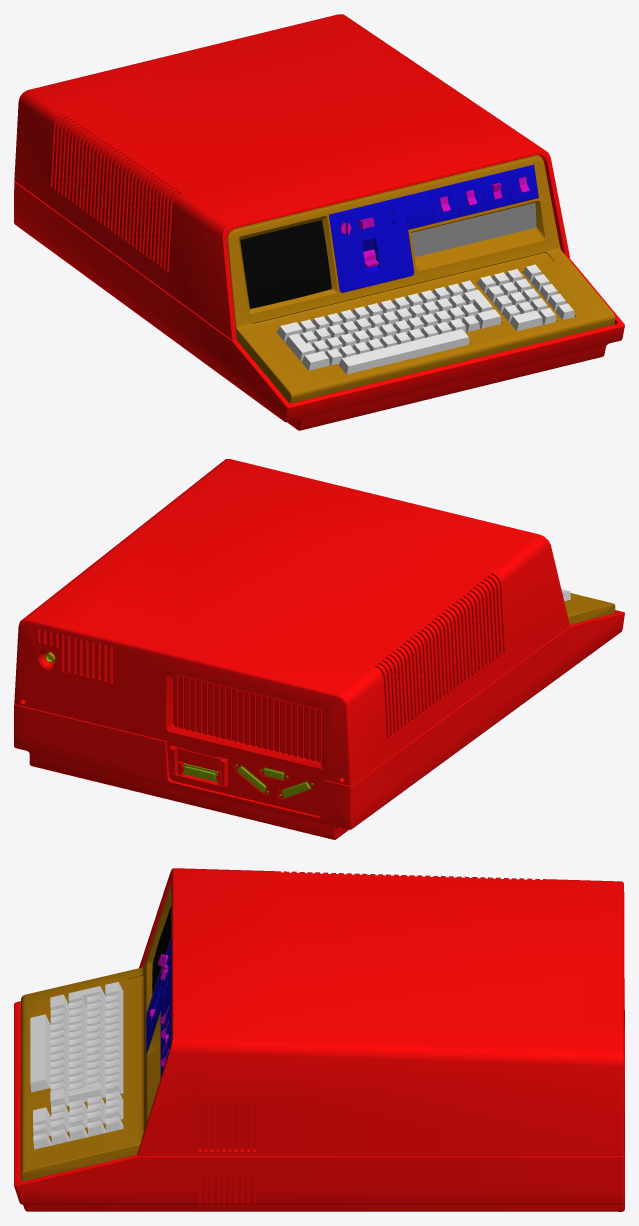
The model's file is ibm5100.fbx.
3 views of the same model, one above another, from view 1: azimuth 30°, elevation 25°; view 2: azimuth 150°, elevation 25°; view 3: azimuth 270°, elevation 25° (orthographic). The views are drawn at different scales.
Visible parts, largest first — view 1: main_low, keyboard_low, monitor_low, switch_1_low; view 2: main_low, plug_low; view 3: main_low, keyboard_low, monitor_low.
Part boxes in pixels (box(x1,y1,x2,y2)): main_low: box(14, 14, 624, 430); keyboard_low: box(277, 264, 574, 374); monitor_low: box(240, 220, 331, 308); switch_1_low: box(359, 177, 529, 229); main_low: box(14, 459, 624, 839); plug_low: box(237, 765, 311, 798); main_low: box(14, 868, 624, 1211); keyboard_low: box(30, 981, 123, 1149); monitor_low: box(152, 906, 171, 994).
Size of the model in its own units: 322 by 144 by 453.
